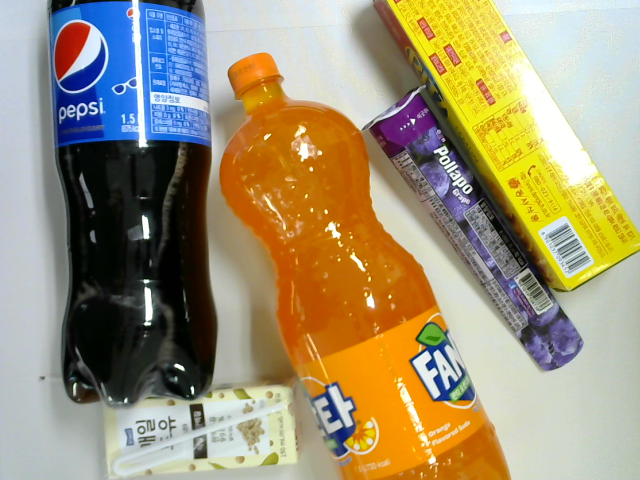99.89_Soymilk: (97, 375, 306, 480)
Hwanta_Orange_1.5L: (214, 45, 522, 480)
Pepsi_Cola_1.5L: (39, 1, 227, 410)
Polapo_Grape: (360, 84, 586, 376)
Ritz_Remon_96g: (371, 1, 638, 294)
